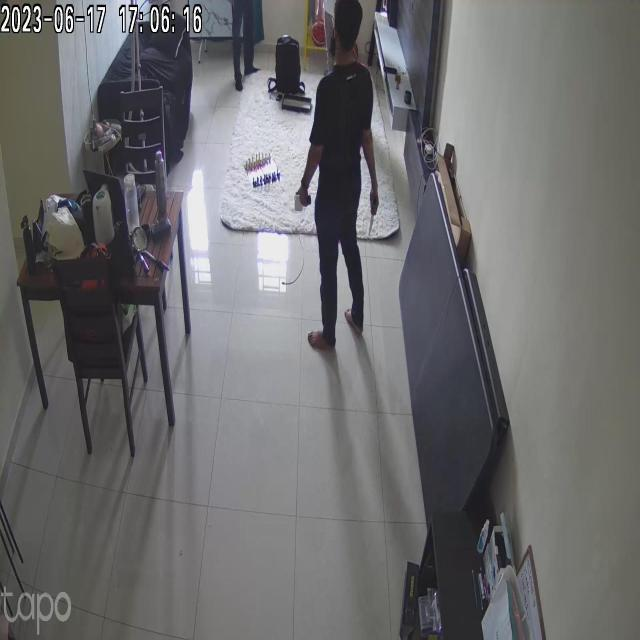Knife: (365, 198, 387, 247)
